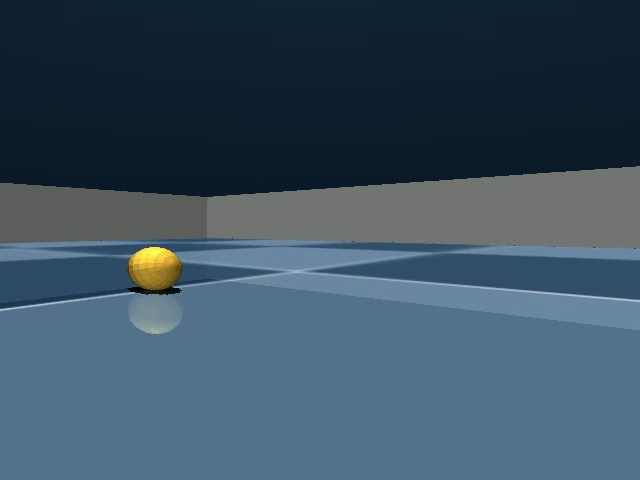lemon: (120, 242, 191, 299)
